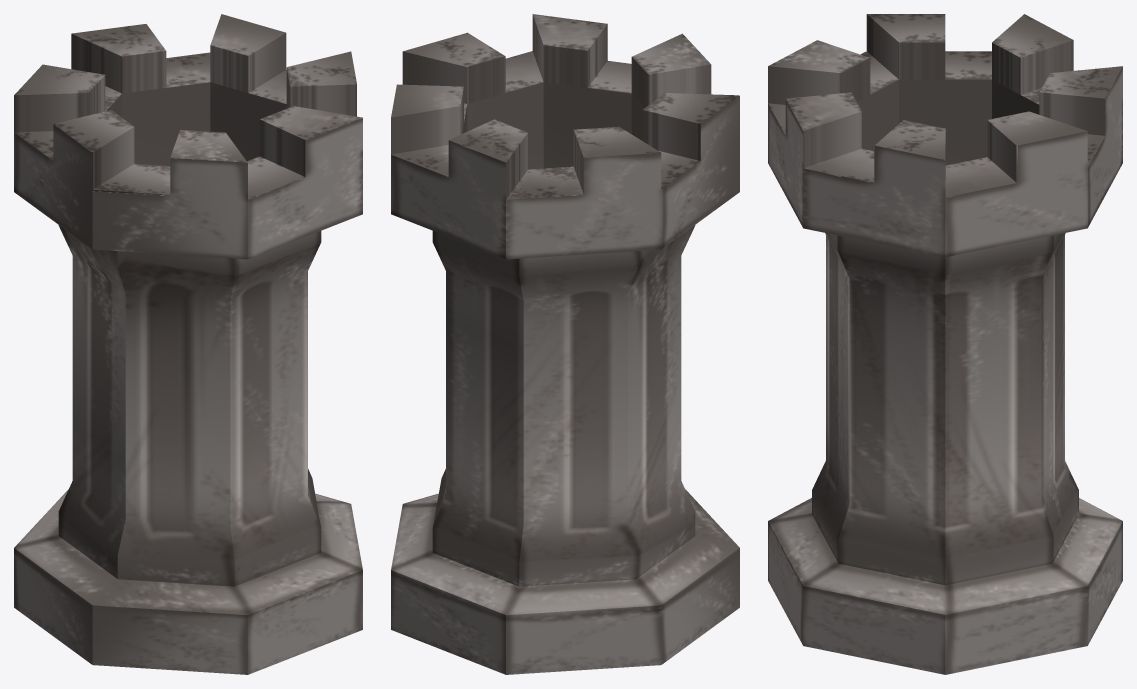
The model's file is pillar2.FBX.
The picture shows the model from 3 angles, left to right: view 1: azimuth 30°, elevation 25°; view 2: azimuth 150°, elevation 25°; view 3: azimuth 270°, elevation 25°; orthographic projection.
Parts seen in each view (by area): view 1: Cylinder001; view 2: Cylinder001; view 3: Cylinder001.
Boxes of the visible parts, x1,y1,x2,y2 form: Cylinder001: [14, 14, 362, 674]; Cylinder001: [391, 14, 739, 674]; Cylinder001: [768, 14, 1122, 674].
Size of the model in its own units: 1.16 by 1.9 by 1.19.
